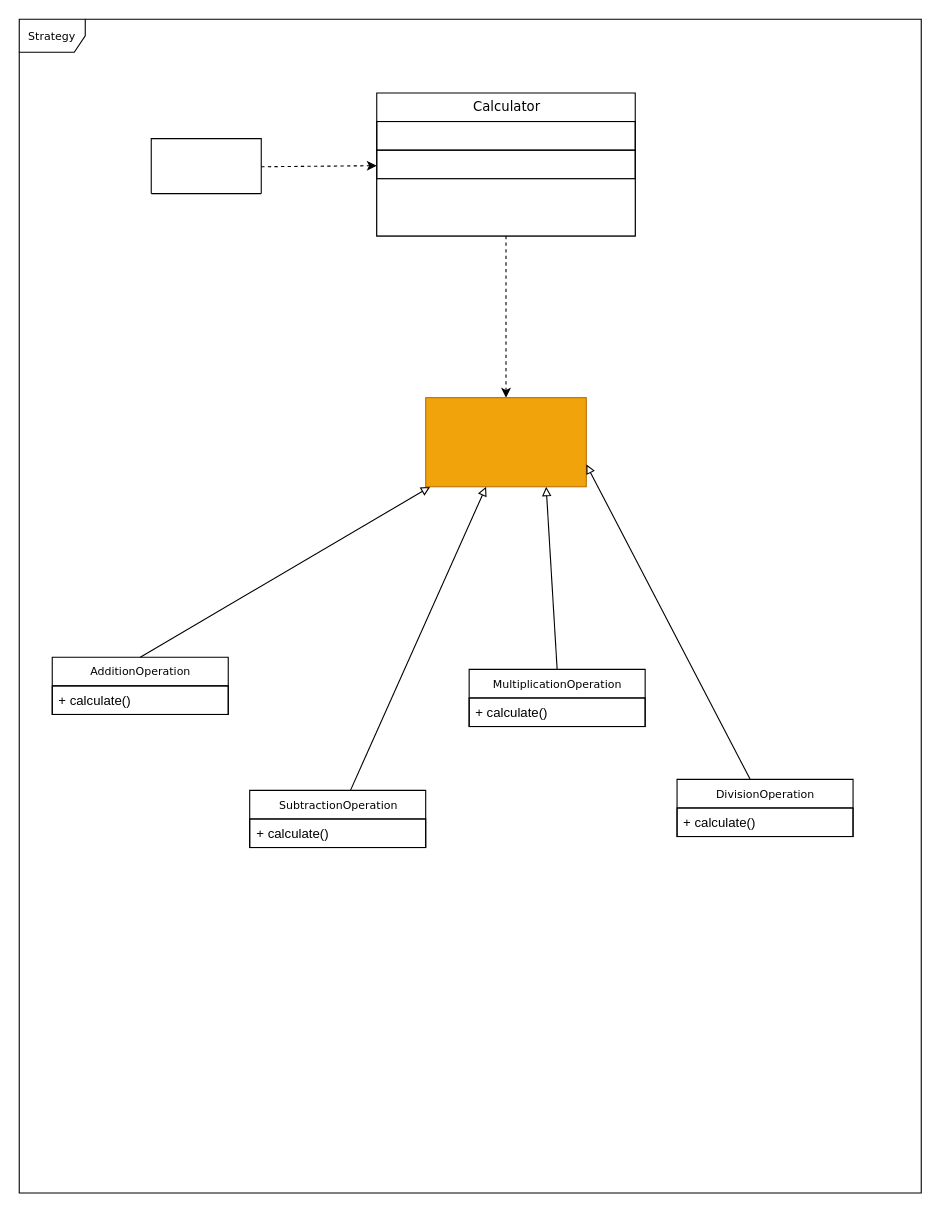
This 941x1212 diagram has some shape labels left out. Each missing label, with the centre of its shape:
"-num1" belongs at (x=505, y=135).
"-num2" belongs at (x=505, y=164).
"<<Interface>> OperationsStrategy + calculate()" belongs at (x=505, y=442).
"Client" belongs at (x=205, y=166).
"getResult(operation: OperationStrategy)" belongs at (x=505, y=207).
